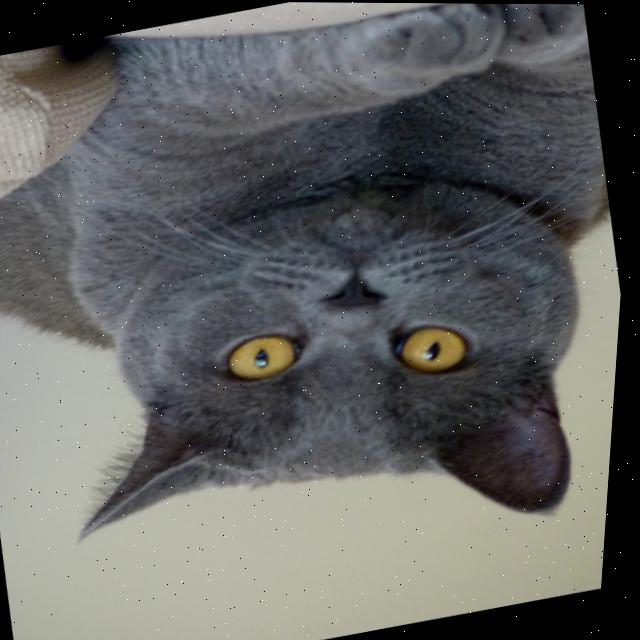British Shorthair: (0, 0, 640, 622)
